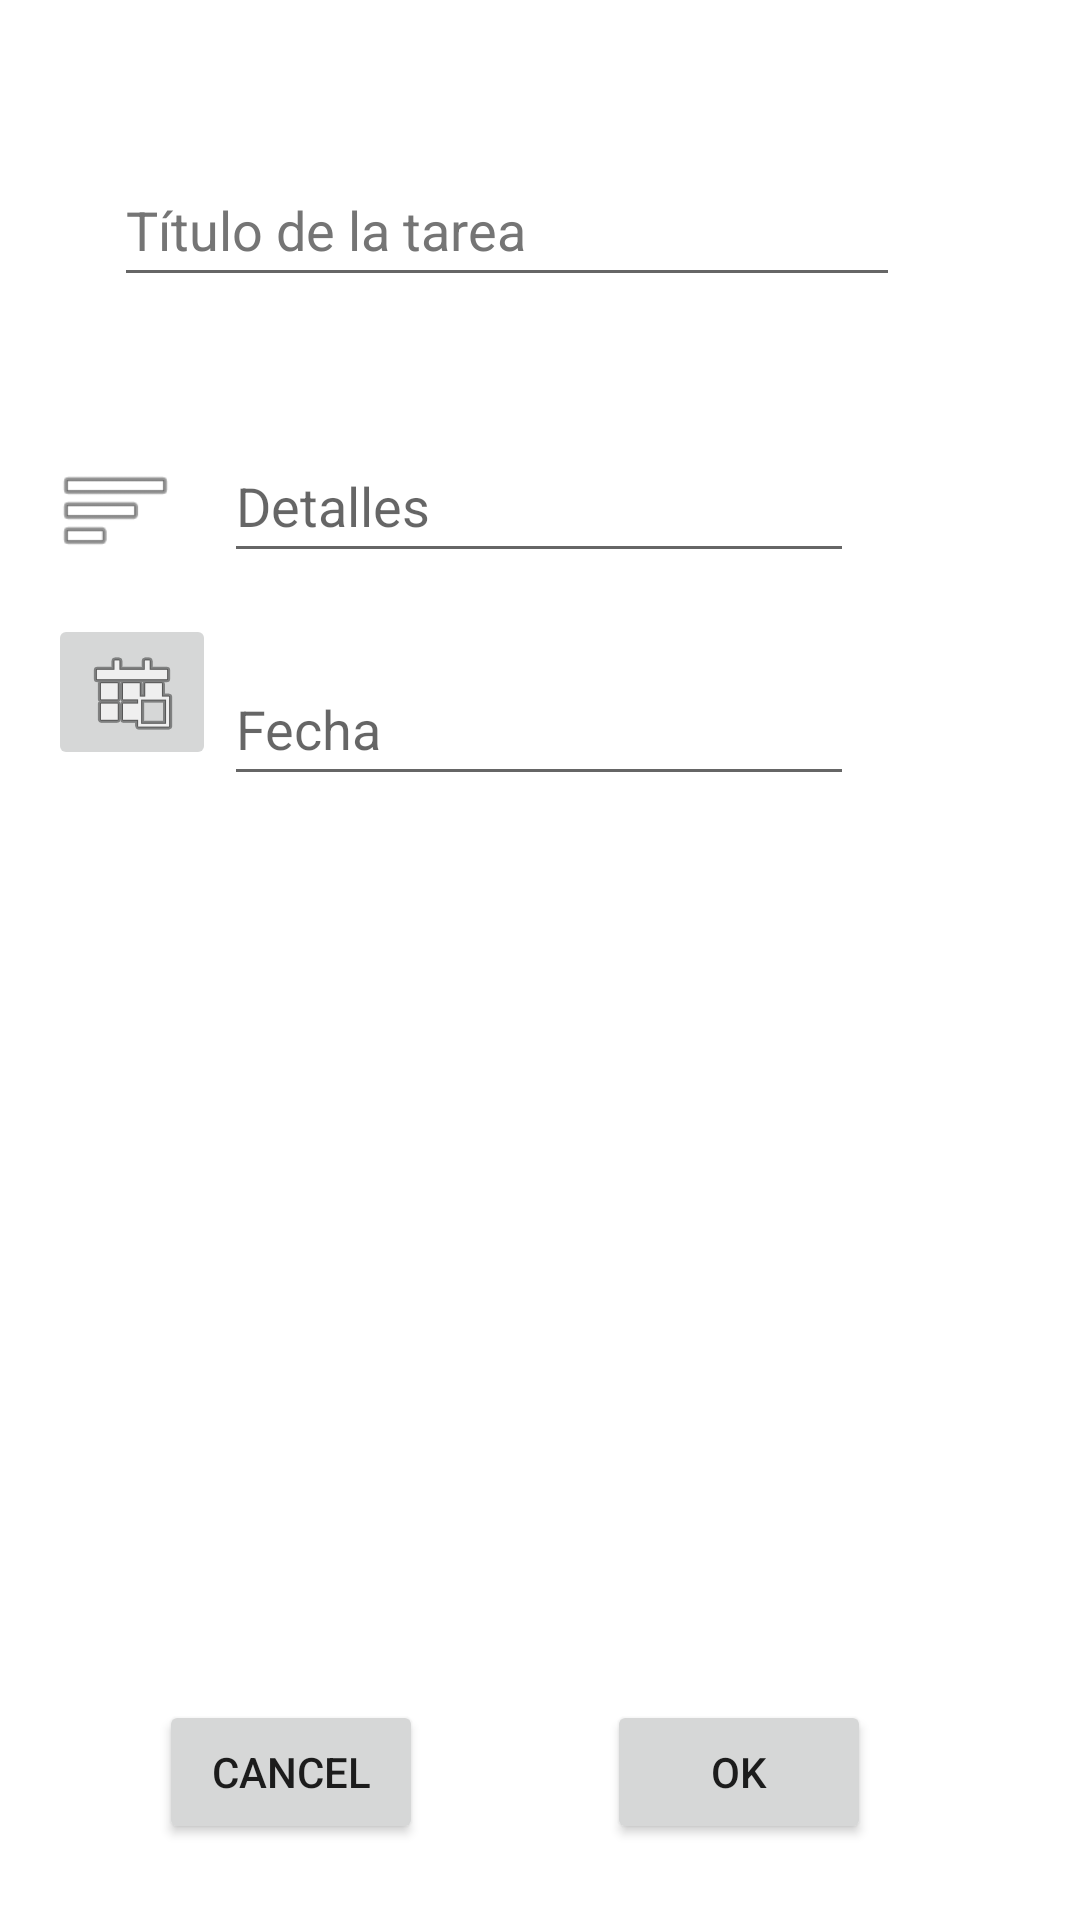

Where icons sit on this 1080 × 1920 app screen, as (x1, y1, x2, y2):
sort by size: (64, 477, 167, 544)
today: (60, 632, 204, 752)
